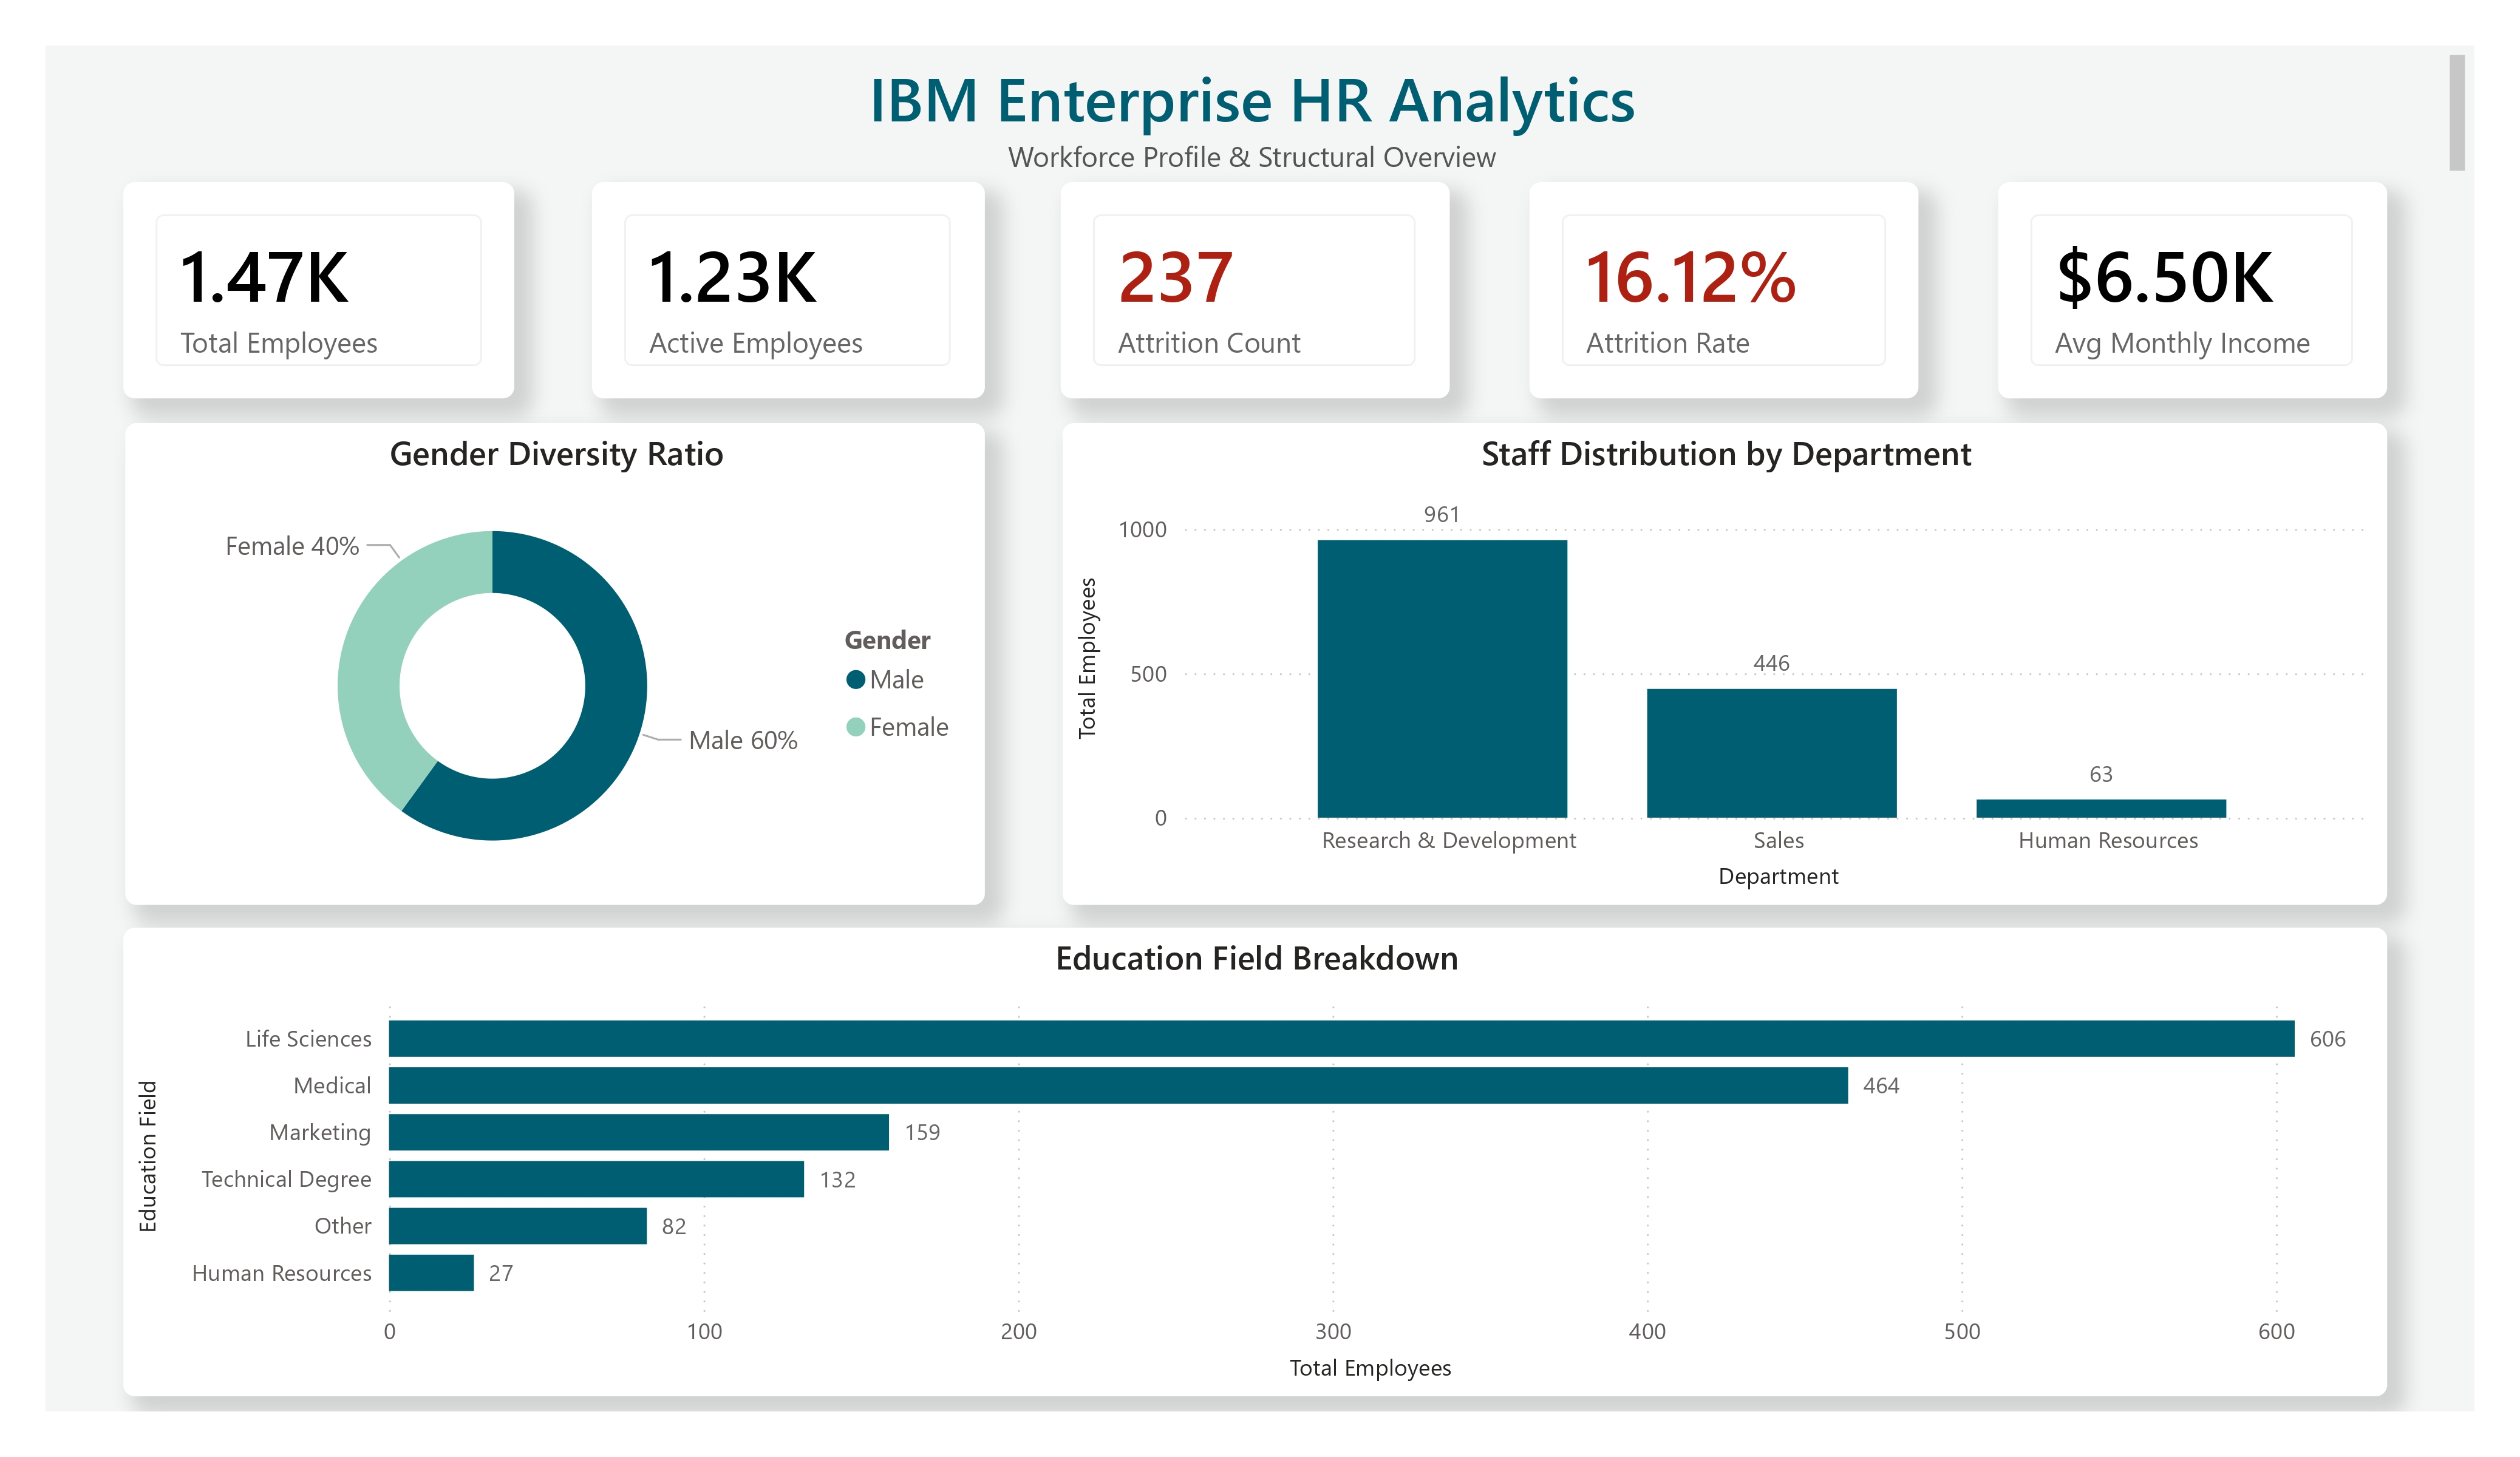

The dashboard page shown, as its layout file describes it:
{"tool":"powerbi","page":{"name":"Workforce Overview","canvas":[1280,720],"ordinal":0},"visuals":[{"type":"textbox","box":[0,0,1280,71.6],"z":0},{"type":"cardVisual","fields":{"Data":["_Measures (2).Total Employees"]},"box":[40.9,71.8,206.4,114.5],"z":1000},{"type":"cardVisual","fields":{"Data":["_Measures (2).Avg Monthly Income"]},"box":[1029.1,71.8,204.5,114.5],"z":2000},{"type":"cardVisual","fields":{"Data":["_Measures (2).Active Employees"]},"box":[288.2,71.8,206.4,114.5],"z":3000},{"type":"cardVisual","fields":{"Data":["_Measures (2).Attrition Count"]},"box":[535.5,71.8,204.5,114.5],"z":4000},{"type":"cardVisual","fields":{"Data":["_Measures (2).Attrition Rate"]},"box":[781.8,71.8,205.5,114.5],"z":5000},{"type":"donutChart","title":"Gender Diversity Ratio","fields":{"Category":["hr_analytics_db vw_dim_demographics.Gender"],"Y":["_Measures (2).Total Employees"]},"box":[41.8,199.1,452.7,253.6],"z":6000},{"type":"clusteredColumnChart","title":"Staff Distribution by Department","fields":{"Category":["hr_analytics_db vw_dim_job_details.Department"],"Y":["_Measures (2).Total Employees"]},"box":[536.4,199.1,697.3,253.6],"z":7000},{"type":"clusteredBarChart","title":"Education Field Breakdown","fields":{"Category":["hr_analytics_db vw_dim_demographics.EducationField"],"Y":["_Measures (2).Total Employees"]},"box":[40.9,464.5,1192.7,247.3],"z":8000}]}

Visuals, with their boxes on the page's 1280x720 design canvas (x1, y1, x2, y2). These are canvas units, not pixel positions in the 2520x1457 screenshot, which may show the page scaled, cropped or inside an application window:
textbox: [x1=0, y1=0, x2=1280, y2=72]
cardVisual - _Measures (2).Total Employees: [x1=41, y1=72, x2=247, y2=186]
cardVisual - _Measures (2).Avg Monthly Income: [x1=1029, y1=72, x2=1234, y2=186]
cardVisual - _Measures (2).Active Employees: [x1=288, y1=72, x2=495, y2=186]
cardVisual - _Measures (2).Attrition Count: [x1=536, y1=72, x2=740, y2=186]
cardVisual - _Measures (2).Attrition Rate: [x1=782, y1=72, x2=987, y2=186]
"Gender Diversity Ratio" donutChart: [x1=42, y1=199, x2=494, y2=453]
"Staff Distribution by Department" clusteredColumnChart: [x1=536, y1=199, x2=1234, y2=453]
"Education Field Breakdown" clusteredBarChart: [x1=41, y1=464, x2=1234, y2=712]
